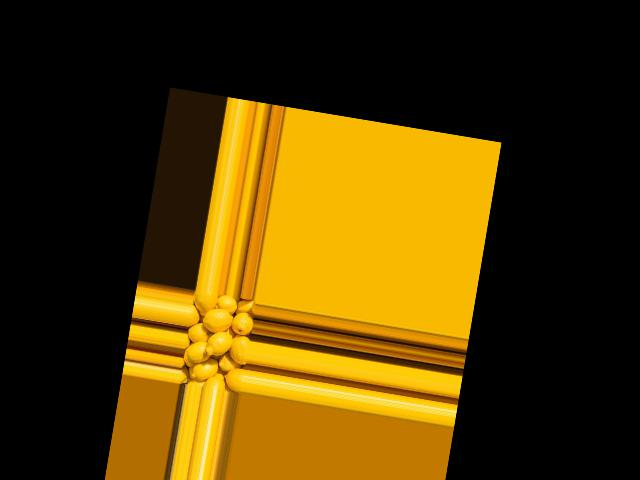lemon: (183, 340, 211, 367)
